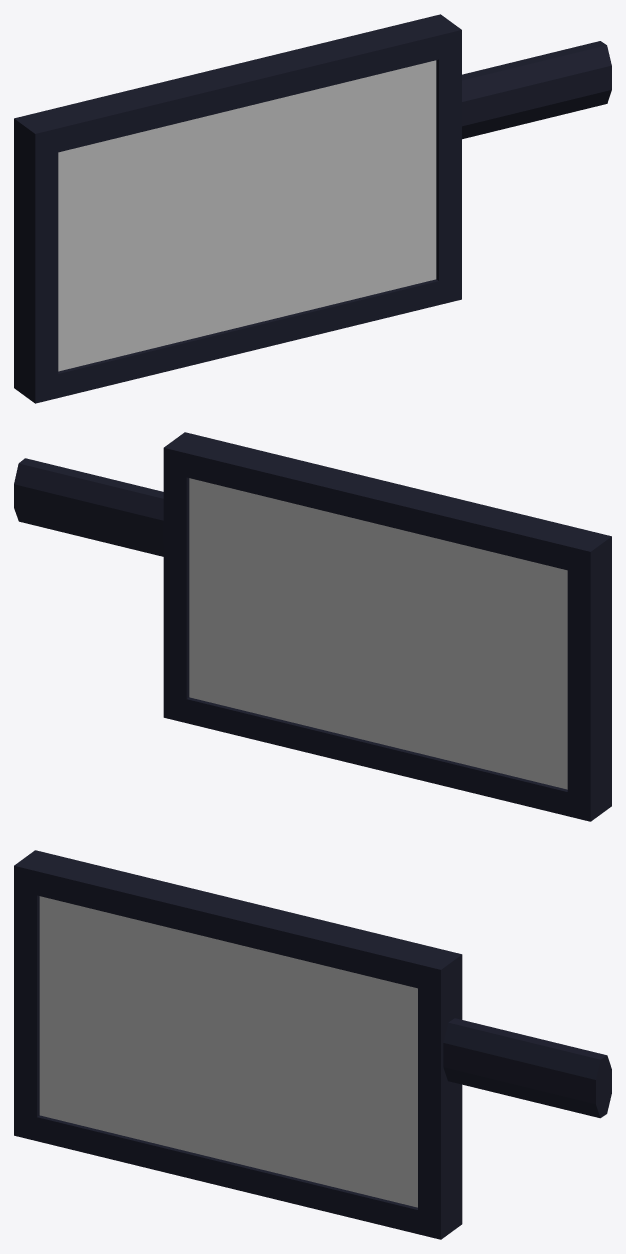
Rendered from Sign_Side_Open03.fbx.
3 renders of one model, top to bottom at view 1: azimuth 30°, elevation 25°; view 2: azimuth 150°, elevation 25°; view 3: azimuth 330°, elevation 25°, orthographic.
Visible parts, largest first — view 1: Cube.484; view 2: Cube.484; view 3: Cube.484.
Part boxes in pixels (box(x1,y1,x2,y2)): Cube.484: box(14, 14, 611, 403); Cube.484: box(14, 432, 611, 821); Cube.484: box(14, 850, 611, 1239).
Size of the model in its own units: 94.34 by 41.99 by 6.01.
